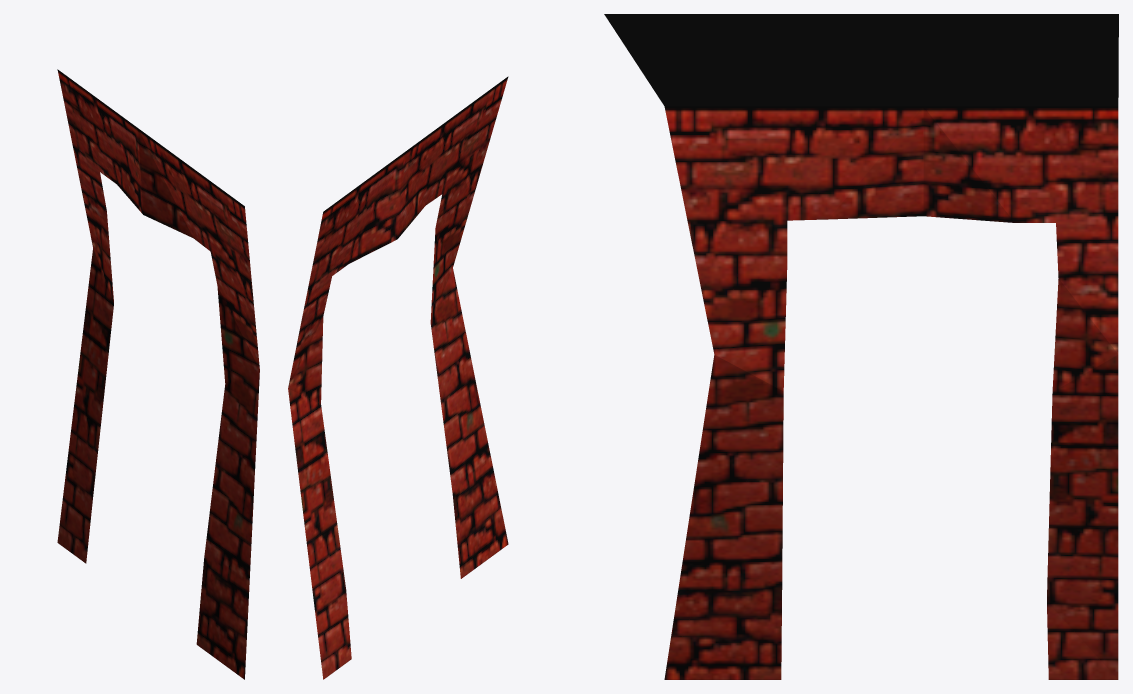
The model's file is W_A2r_Tür [Ziegel]_1693.glb.
3 views of the same model, side by side, from view 1: azimuth 30°, elevation 25°; view 2: azimuth 150°, elevation 25°; view 3: azimuth 270°, elevation 25° (orthographic). The views are drawn at different scales.
Visible parts, largest first — view 1: polySurfaceShape1204; view 2: polySurfaceShape1204; view 3: polySurfaceShape1204, polySurfaceShape1206.
Boxes of the visible parts, x1,y1,x2,y2 form: polySurfaceShape1204: (57, 69, 259, 679); polySurfaceShape1204: (288, 76, 508, 679); polySurfaceShape1204: (664, 106, 1118, 679); polySurfaceShape1206: (604, 14, 1118, 106).
Bounding box in the file's own units: 0.0607 × 0.3891 × 0.2836.
Materials: 2 (1 with a texture image).
